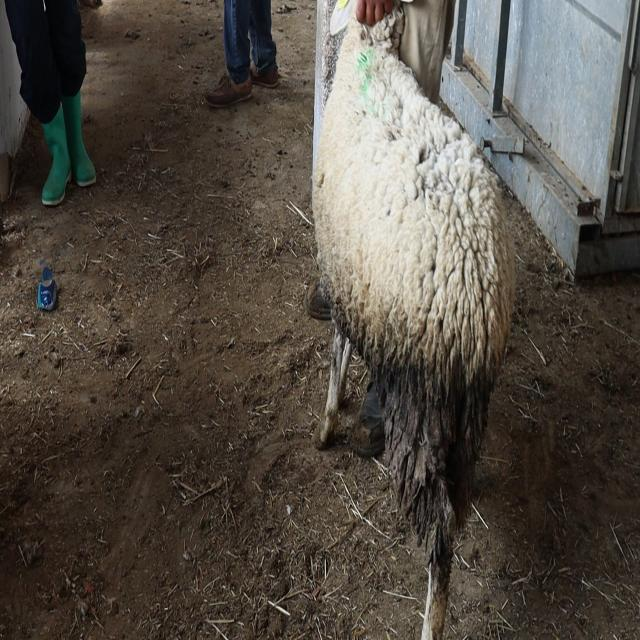Score_5: (312, 0, 515, 639)
